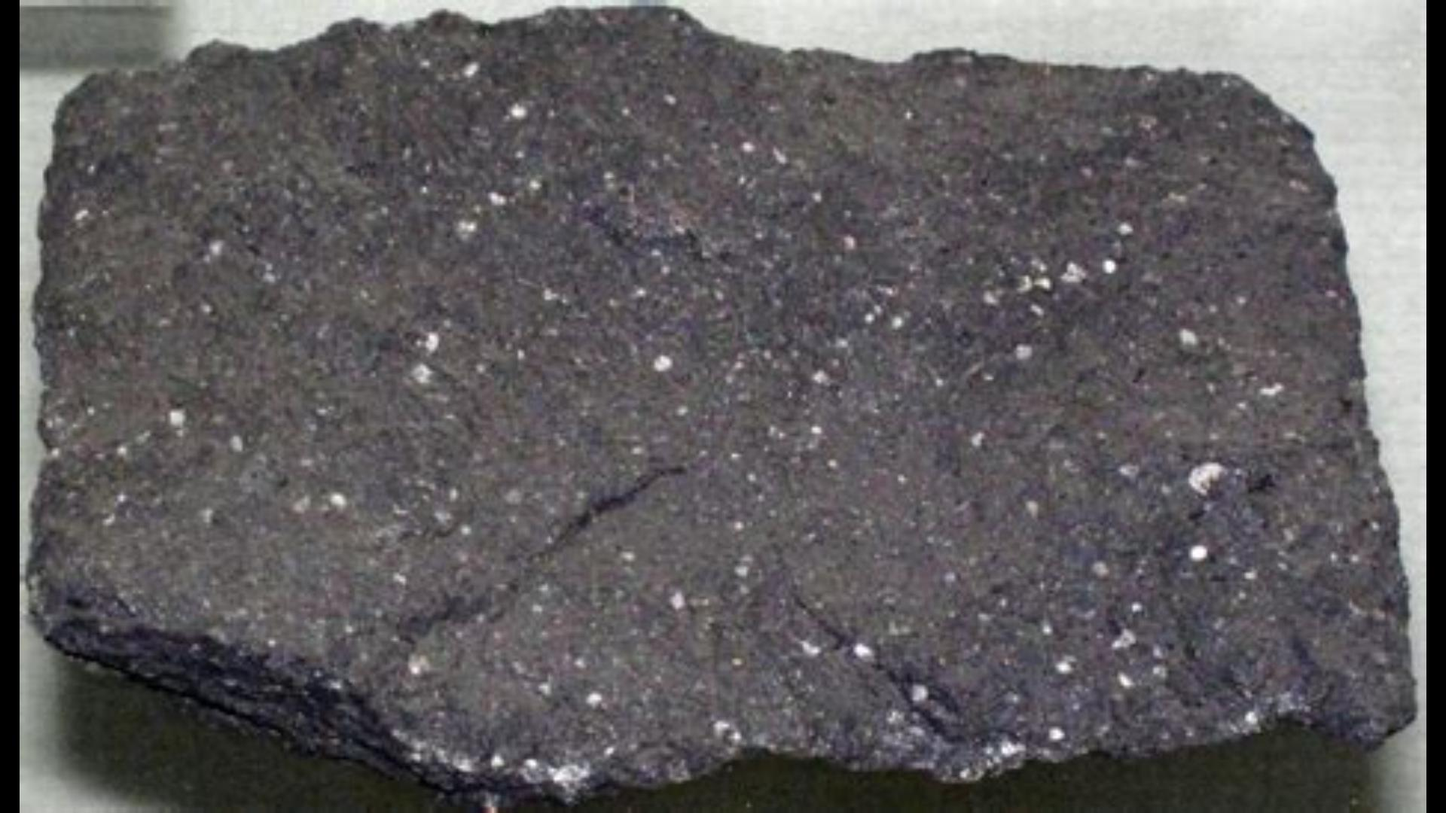rock: (28, 9, 1412, 798)
